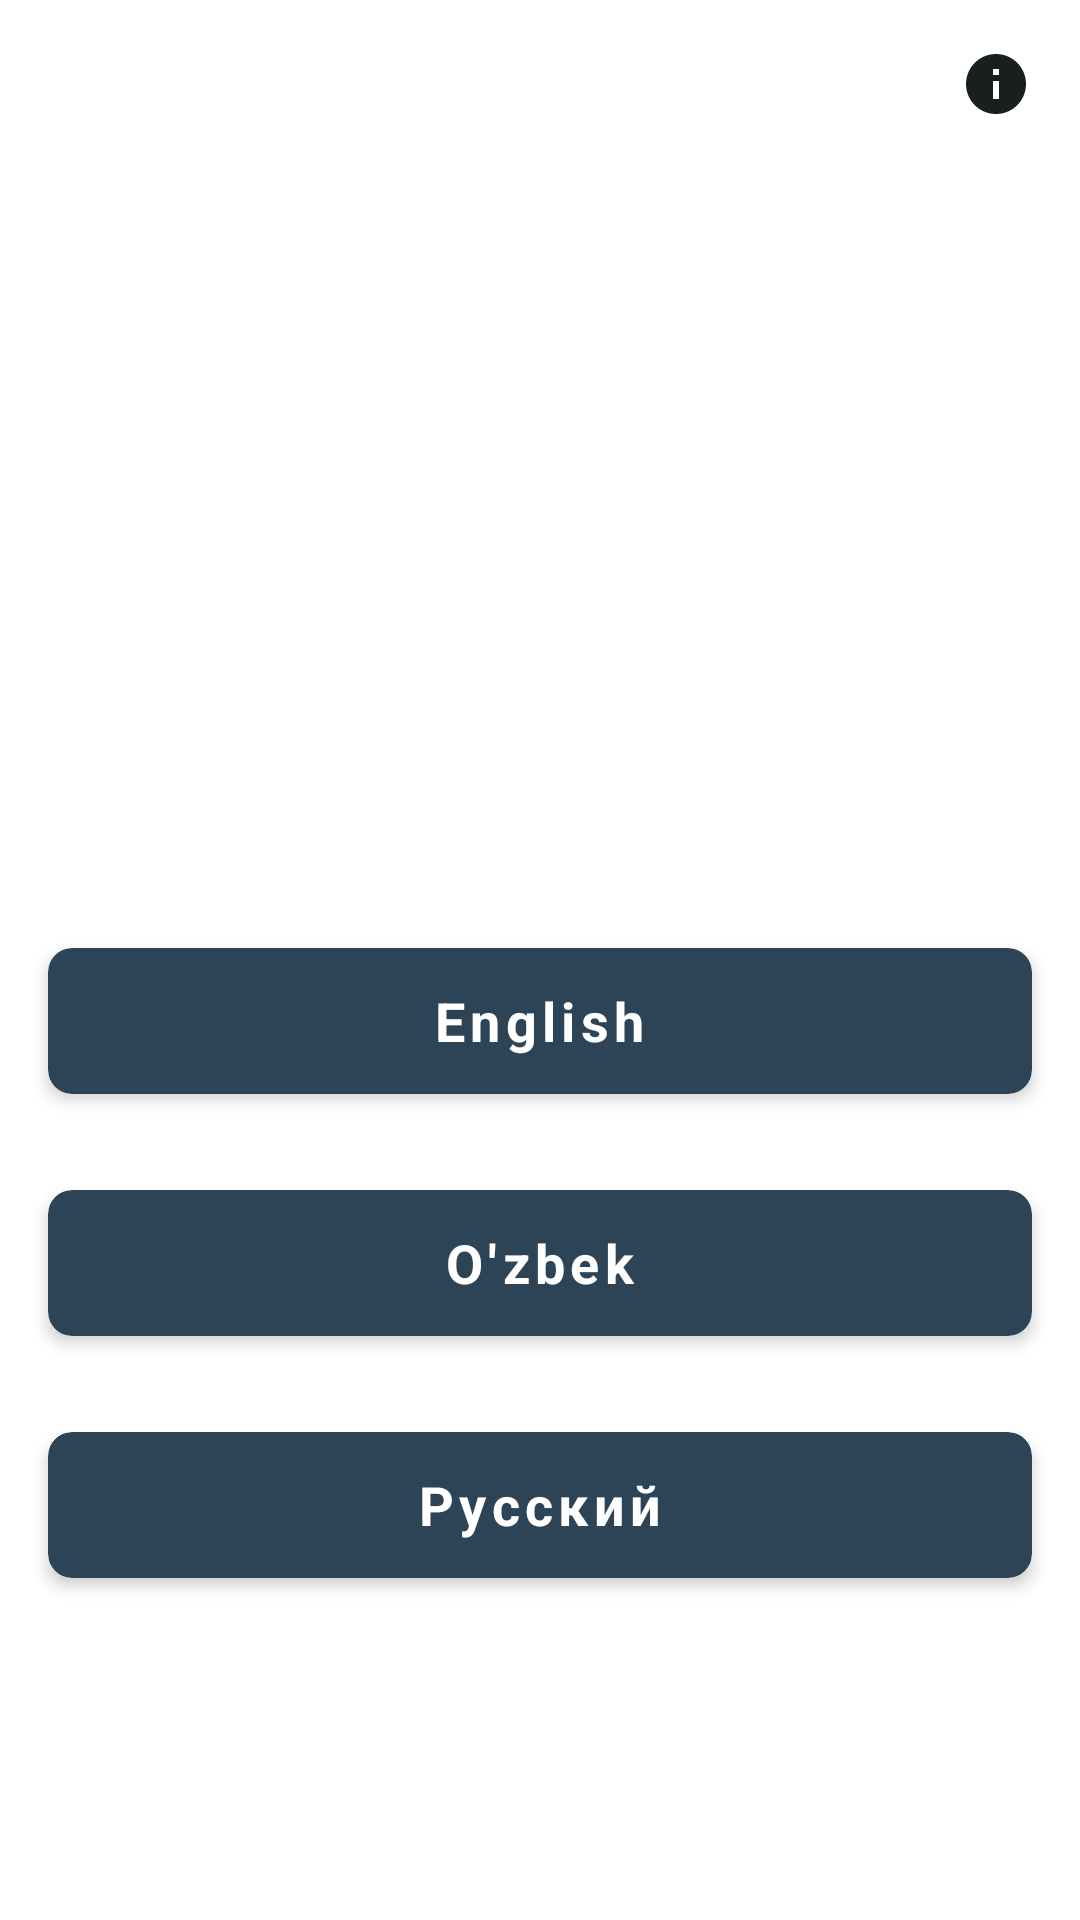

Named icons in this screenshot (1080px×1920px) and their centers, (x,y):
info: (996,84)
